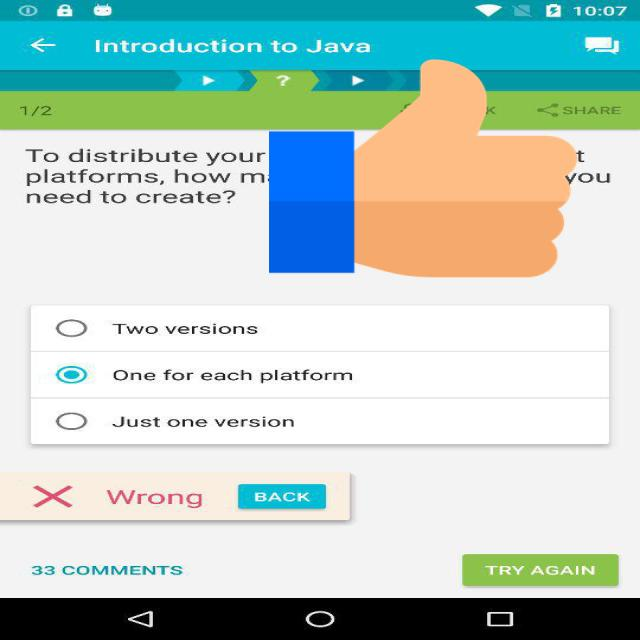privacy zuckering: (269, 54, 577, 283)
